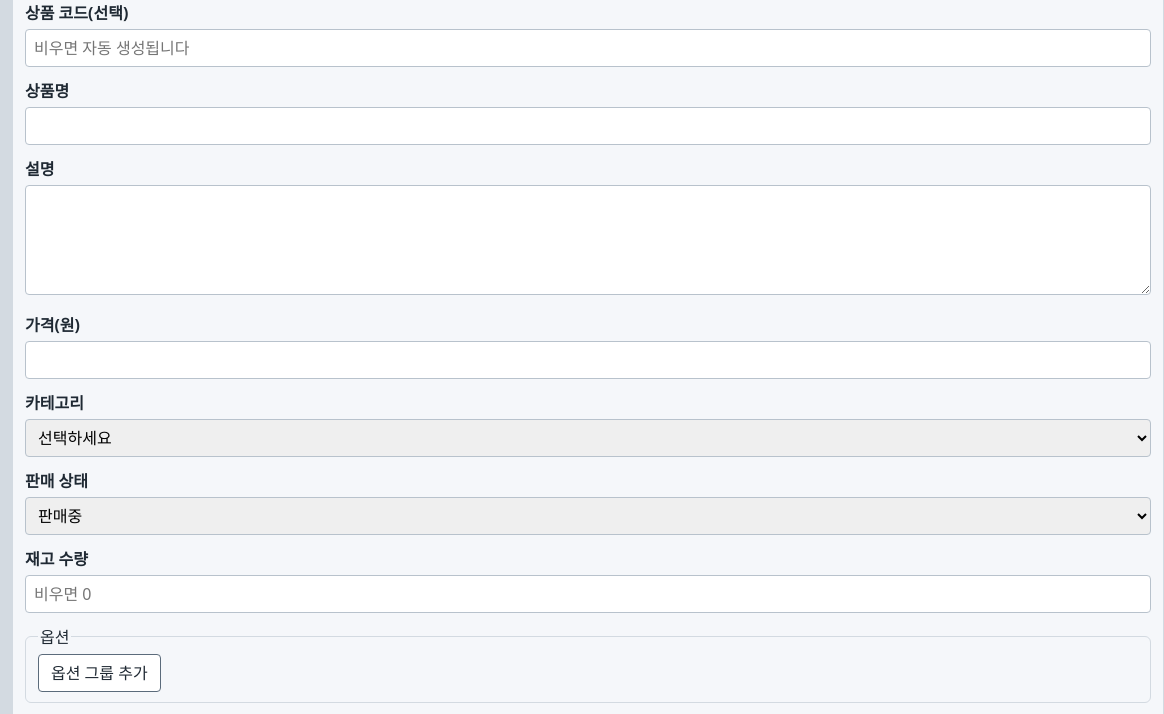
ProductForm › 옵션 값이 중복되면 저장하지 않고 안내한다
The width and height of the screenshot is (1164, 714).
Type "티셔츠" into the field labelled "상품명" at (588, 126), box [25,107,1151,145]
Type "1000" into the field labelled "가격(원)" at (588, 360), box [25,341,1151,379]
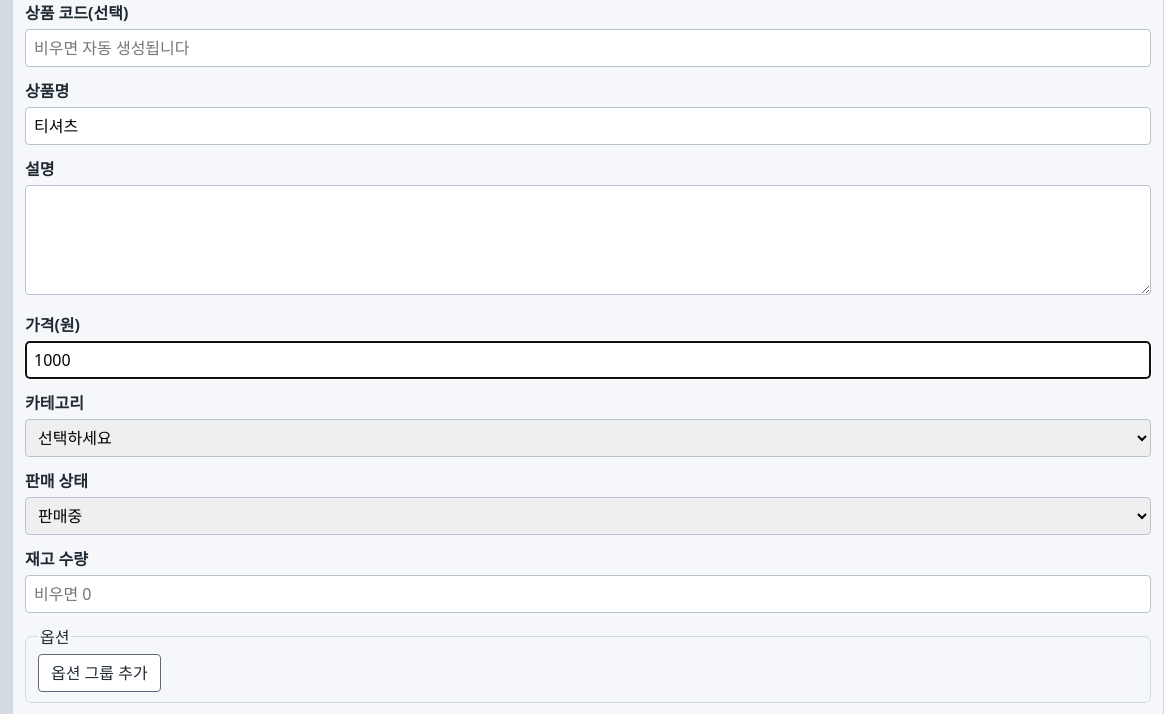
Select "미분류" in the dropdown labelled "카테고리" at (588, 438), box [25,419,1151,457]
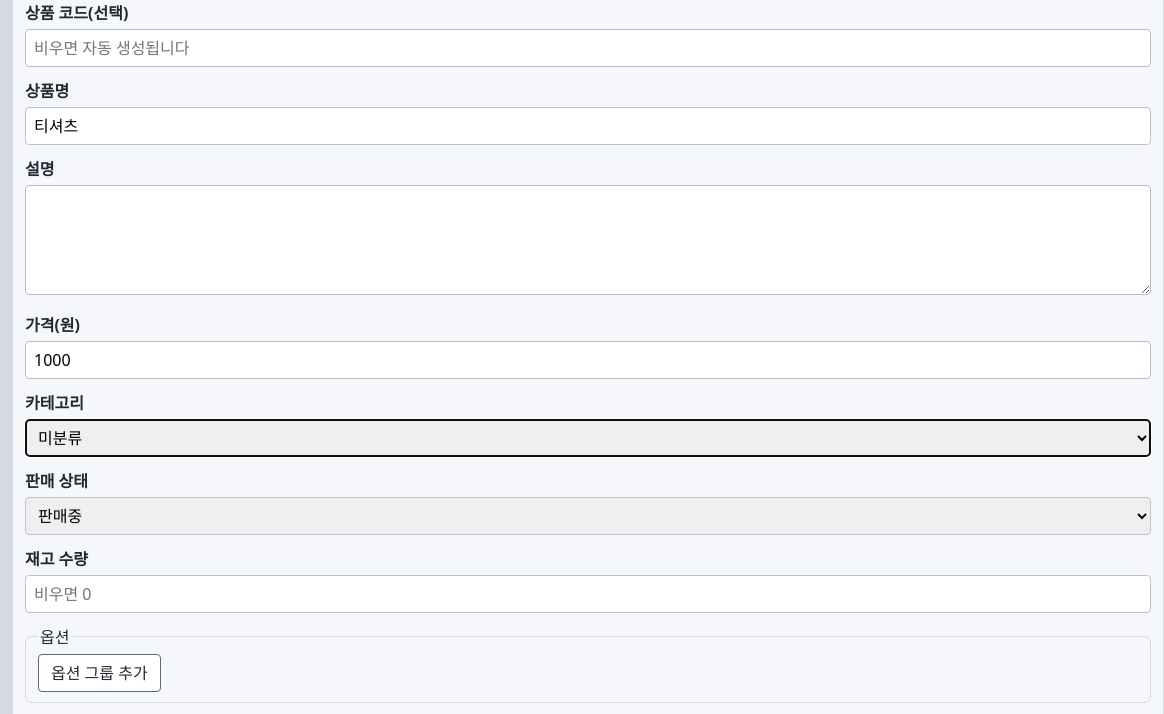
Click the button "옵션 그룹 추가" at (99, 673), box [38,654,161,692]
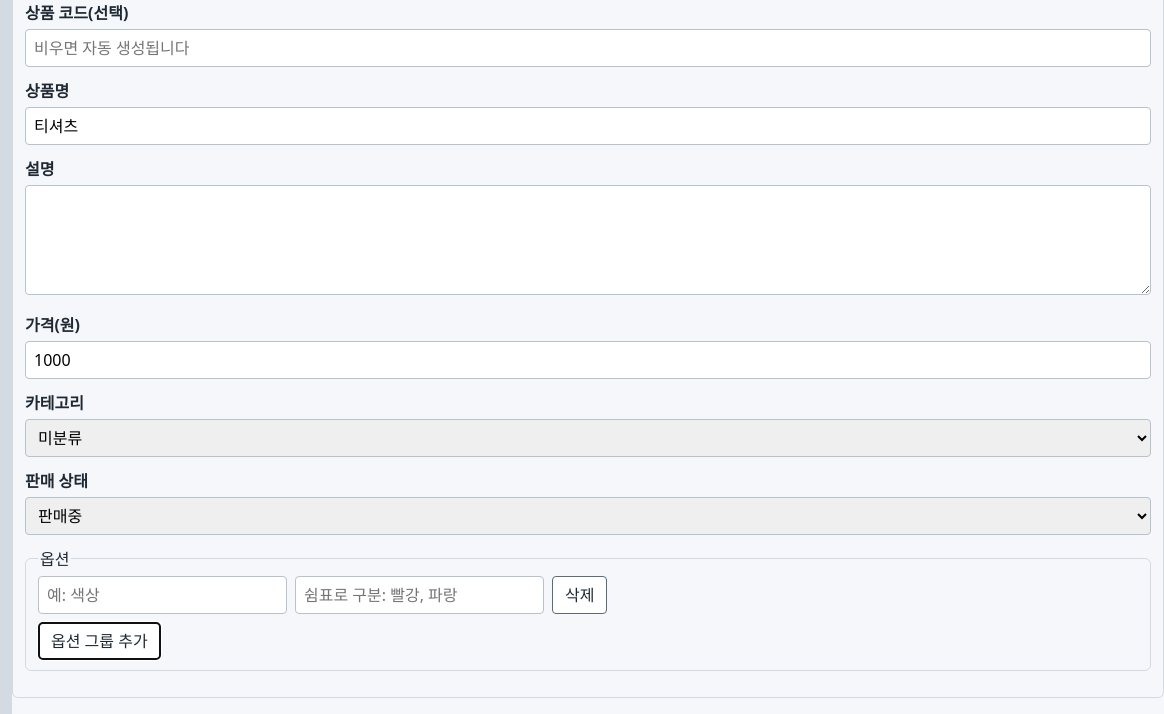
Type "색상" into the field named "옵션 이름 1" at (162, 595), box [38,576,287,614]
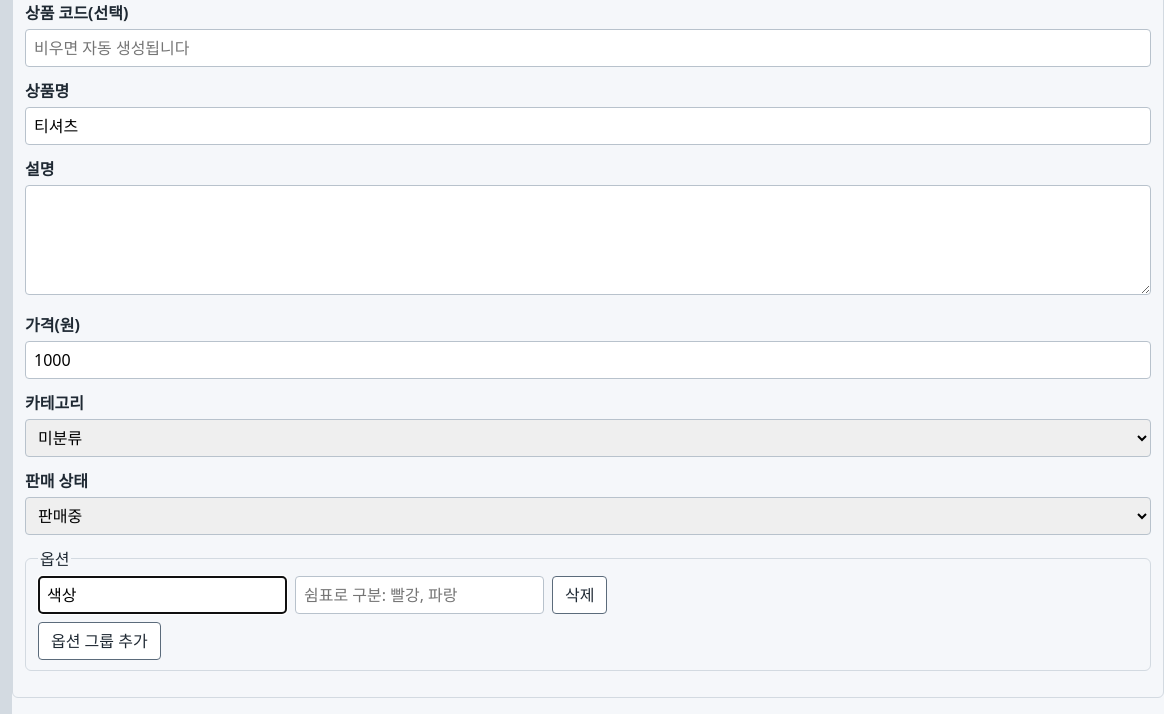
Type "빨강, 빨강" into the field named "옵션 값 1" at (420, 595), box [295,576,544,614]
(page scrolled)
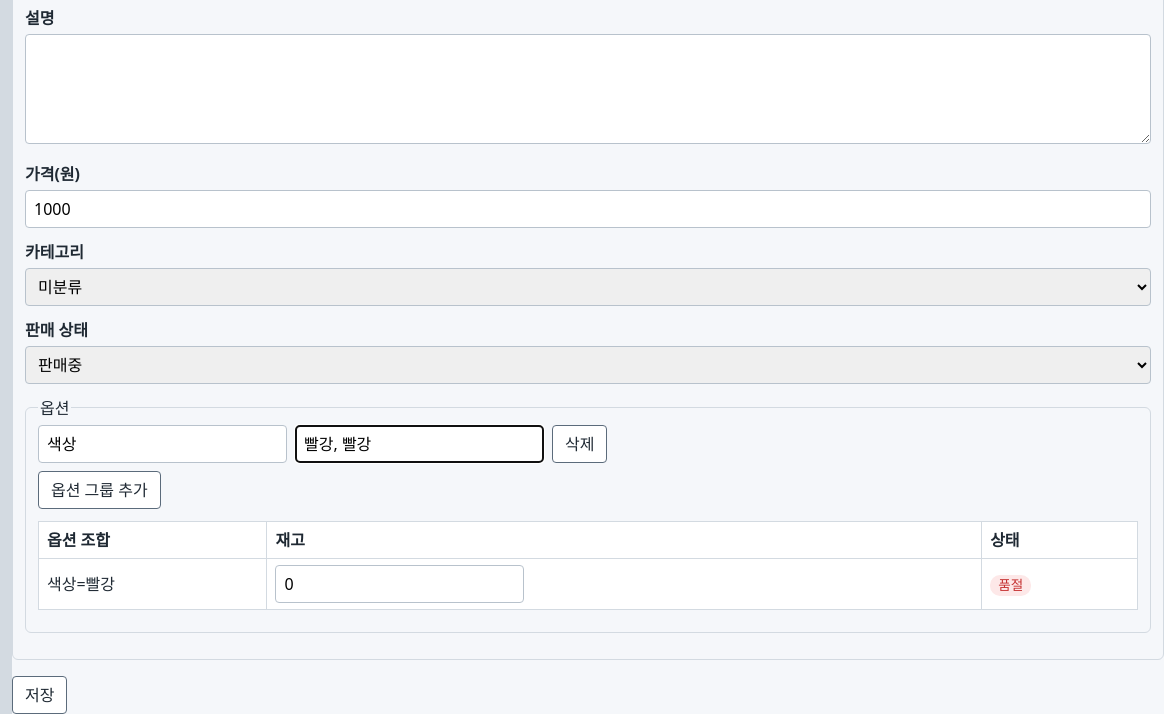
Click the button "저장" at (40, 695), box [12,676,68,713]
(page scrolled)
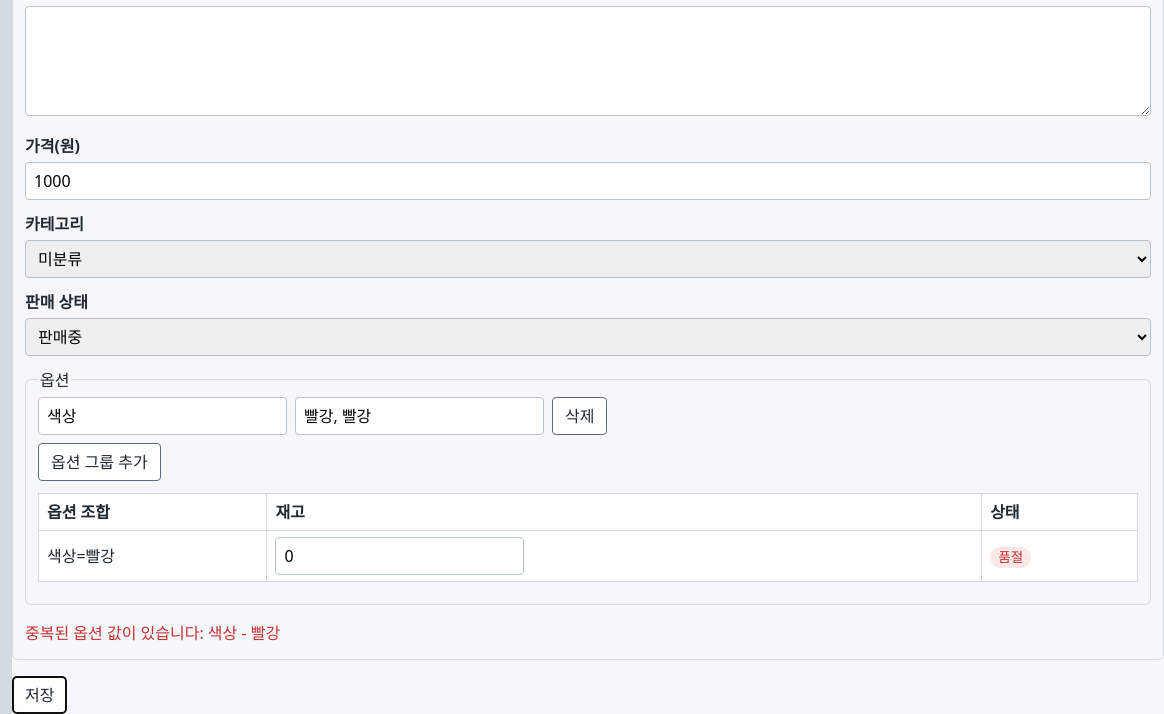
Expected: the text "중복된 옵션 값이 있습니다: 색상 - 빨강" is shown, [25,622,280,644]
